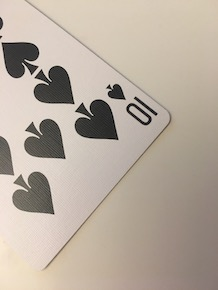TenOfSpades: (1, 1, 173, 273)
